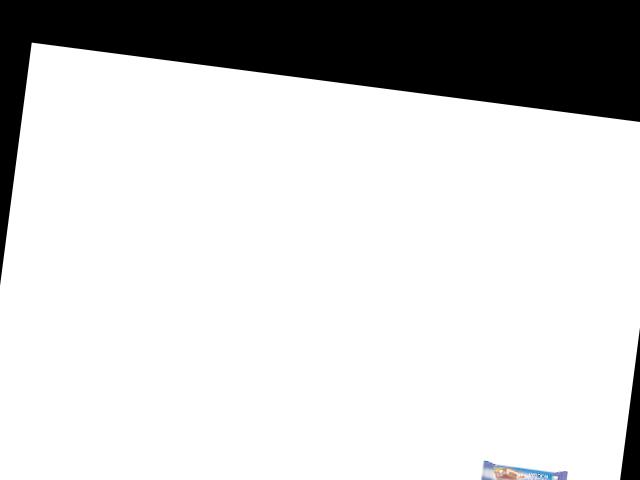chocolate: (469, 450, 571, 480)
